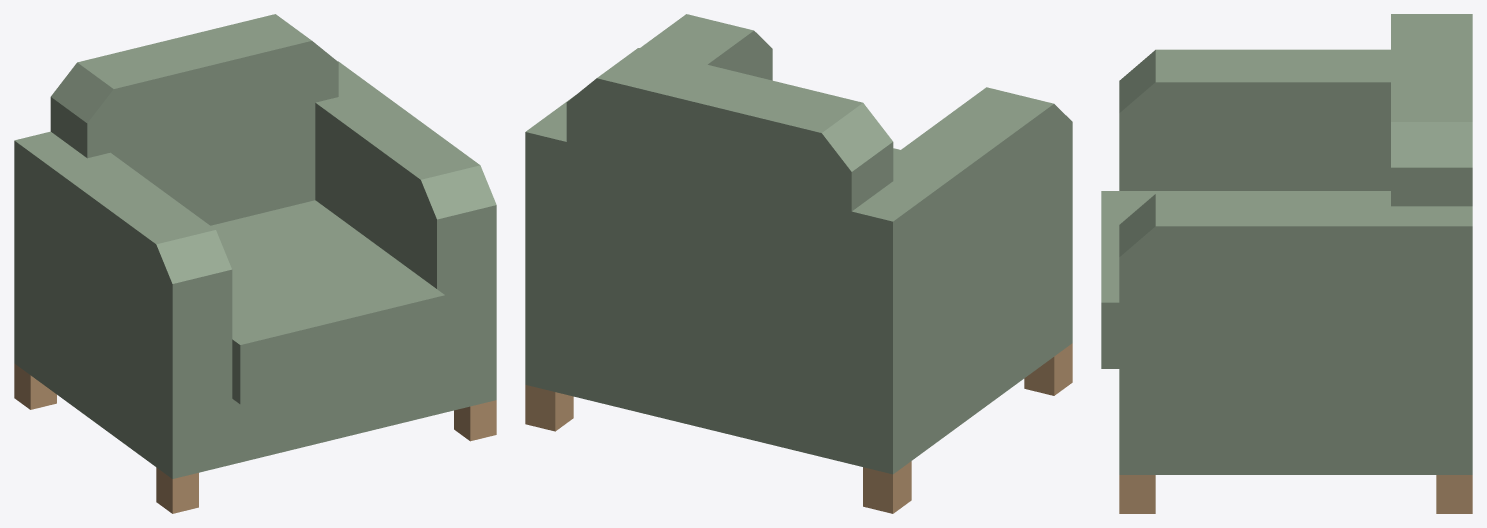
File: armchair.glb
The picture shows the model from 3 angles, left to right: view 1: azimuth 30°, elevation 25°; view 2: azimuth 150°, elevation 25°; view 3: azimuth 270°, elevation 25°; orthographic projection. The views are drawn at different scales.
Visible parts, largest first — view 1: armchair; view 2: armchair; view 3: armchair.
Part boxes in pixels (x1,y1,x2,y2): armchair: (14,14,496,513); armchair: (525,14,1072,513); armchair: (1101,14,1472,513).
Size of the model in its own units: 0.9 by 0.85 by 0.8.
